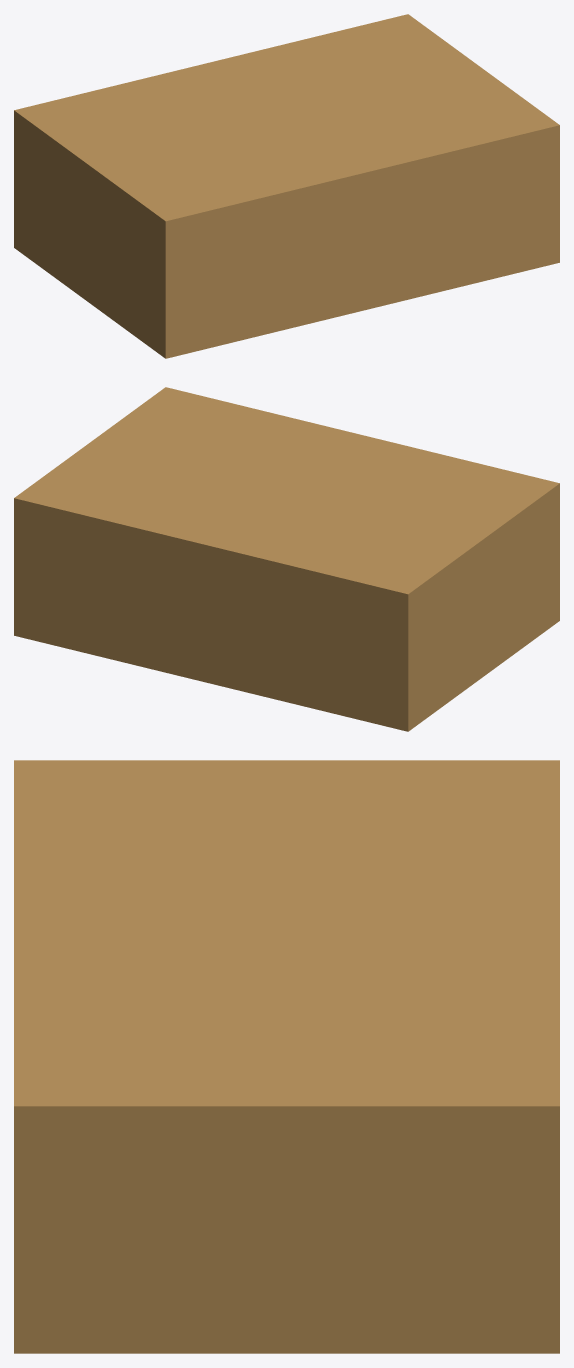
3 renders of one model, top to bottom at view 1: azimuth 30°, elevation 25°; view 2: azimuth 150°, elevation 25°; view 3: azimuth 270°, elevation 25°, orthographic. The views are drawn at different scales.
Parts seen in each view (by area): view 1: RUN-048-S01-top_plate; view 2: RUN-048-S01-top_plate; view 3: RUN-048-S01-top_plate.
Part boxes in pixels (x1,y1,x2,y2): RUN-048-S01-top_plate: (14,14,559,358); RUN-048-S01-top_plate: (14,387,559,731); RUN-048-S01-top_plate: (14,760,559,1353).
Size of the model in its own units: 0.135 by 0.045 by 0.09.
